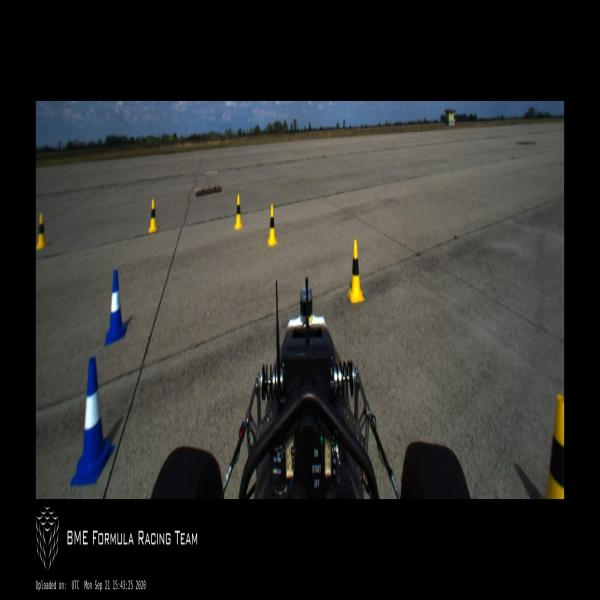blue_cone: (70, 356, 115, 486), (104, 270, 126, 346)
yellow_cone: (546, 395, 564, 499), (346, 239, 364, 303), (36, 212, 48, 251), (268, 204, 278, 247), (147, 198, 158, 233), (234, 194, 243, 229)
